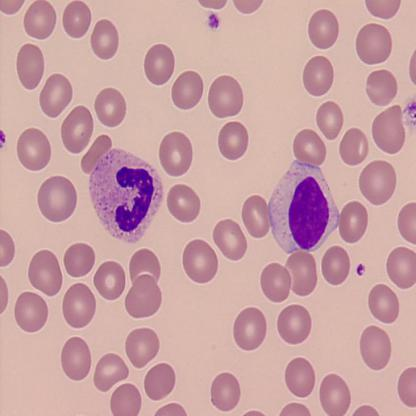Band Neutrophil: (89, 143, 165, 246)
